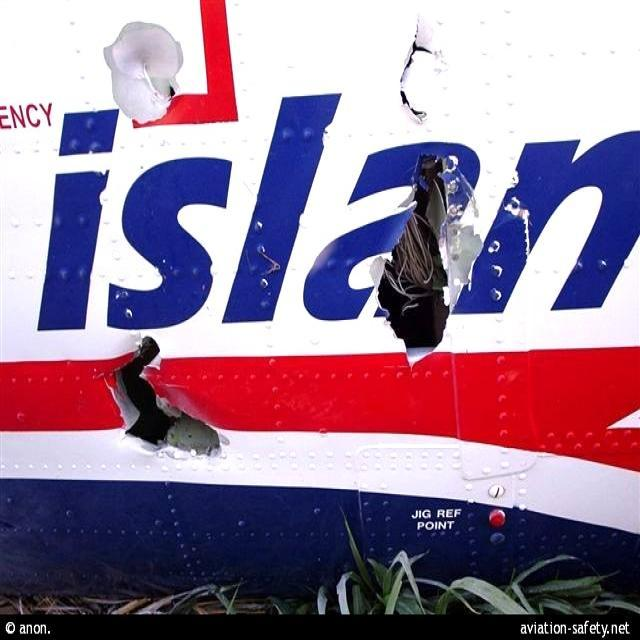crack: (377, 147, 463, 370), (107, 335, 230, 465), (395, 14, 446, 132), (143, 62, 180, 106)
